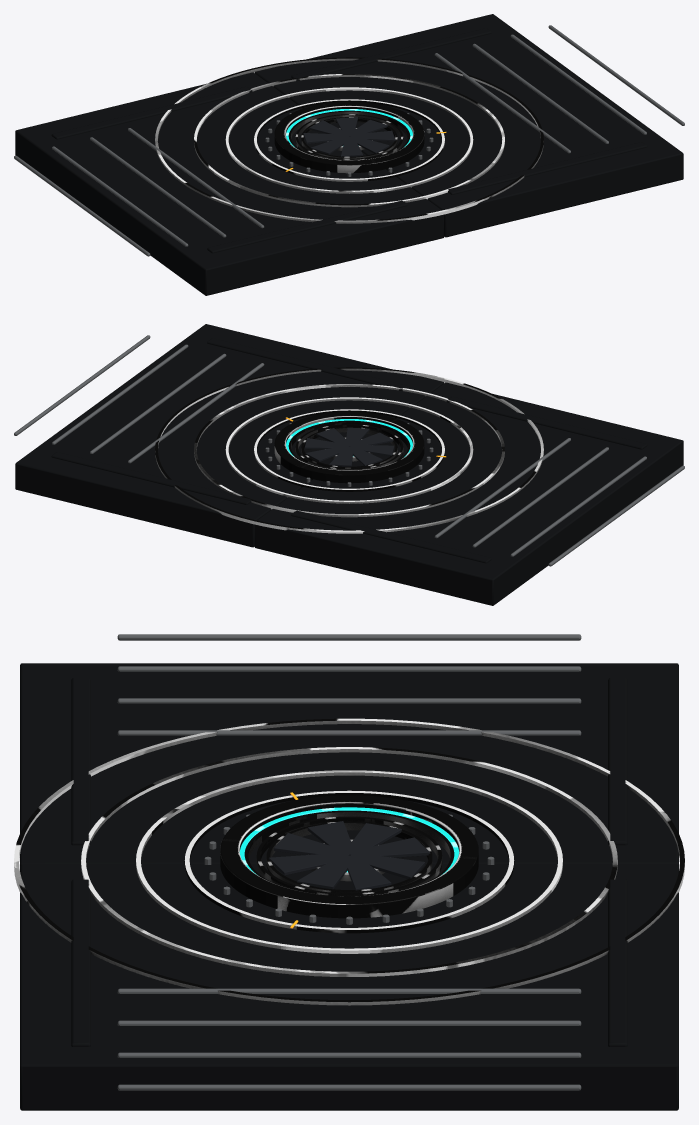
Rendered from auth_door_baked.glb.
3 renders of one model, top to bottom at view 1: azimuth 30°, elevation 25°; view 2: azimuth 150°, elevation 25°; view 3: azimuth 270°, elevation 25°, orthographic. The views are drawn at different scales.
Parts seen in each view (by area): view 1: Leaf_L, Leaf_R, FaceRings, Iris_Bezel, Iris_Blades, Iris_Ring_1, Iris_Ring_0, Iris_Ring_2, Iris_DataRing; view 2: Leaf_L, Leaf_R, FaceRings, Iris_Bezel, Iris_Blades, Iris_Ring_1, Iris_Ring_0, Iris_Ring_2, Iris_DataRing; view 3: Leaf_R, Leaf_L, FaceRings, Iris_Bezel, Iris_Blades, Iris_Ring_1, Iris_Ring_0, Iris_Ring_2, Iris_DataRing, BoltRing.
Boxes of the visible parts, x1,y1,x2,y2 form: Leaf_L: [14, 72, 443, 295]; Leaf_R: [255, 14, 684, 237]; FaceRings: [155, 57, 543, 223]; Iris_Bezel: [274, 101, 424, 173]; Iris_Blades: [303, 117, 395, 156]; Iris_Ring_1: [295, 114, 403, 160]; Iris_Ring_0: [288, 110, 410, 152]; Iris_Ring_2: [301, 117, 397, 158]; Iris_DataRing: [286, 109, 412, 146]; Leaf_L: [255, 382, 684, 605]; Leaf_R: [14, 324, 443, 547]; FaceRings: [155, 367, 543, 533]; Iris_Bezel: [274, 411, 424, 483]; Iris_Blades: [304, 427, 394, 466]; Iris_Ring_1: [295, 424, 403, 470]; Iris_Ring_0: [288, 420, 410, 462]; Iris_Ring_2: [301, 427, 397, 468]; Iris_DataRing: [286, 419, 412, 456]; Leaf_R: [20, 865, 678, 1110]; Leaf_L: [20, 634, 678, 866]; FaceRings: [14, 718, 684, 1005]; Iris_Bezel: [220, 795, 478, 918]; Iris_Blades: [268, 821, 430, 890]; Iris_Ring_1: [256, 816, 442, 896]; Iris_Ring_0: [244, 810, 454, 883]; Iris_Ring_2: [266, 821, 432, 893]; Iris_DataRing: [239, 807, 459, 874]; BoltRing: [204, 814, 494, 924].
Bounding box in the file's own units: 8.78 × 0.55 × 5.5.
17 materials, 7 textured.
